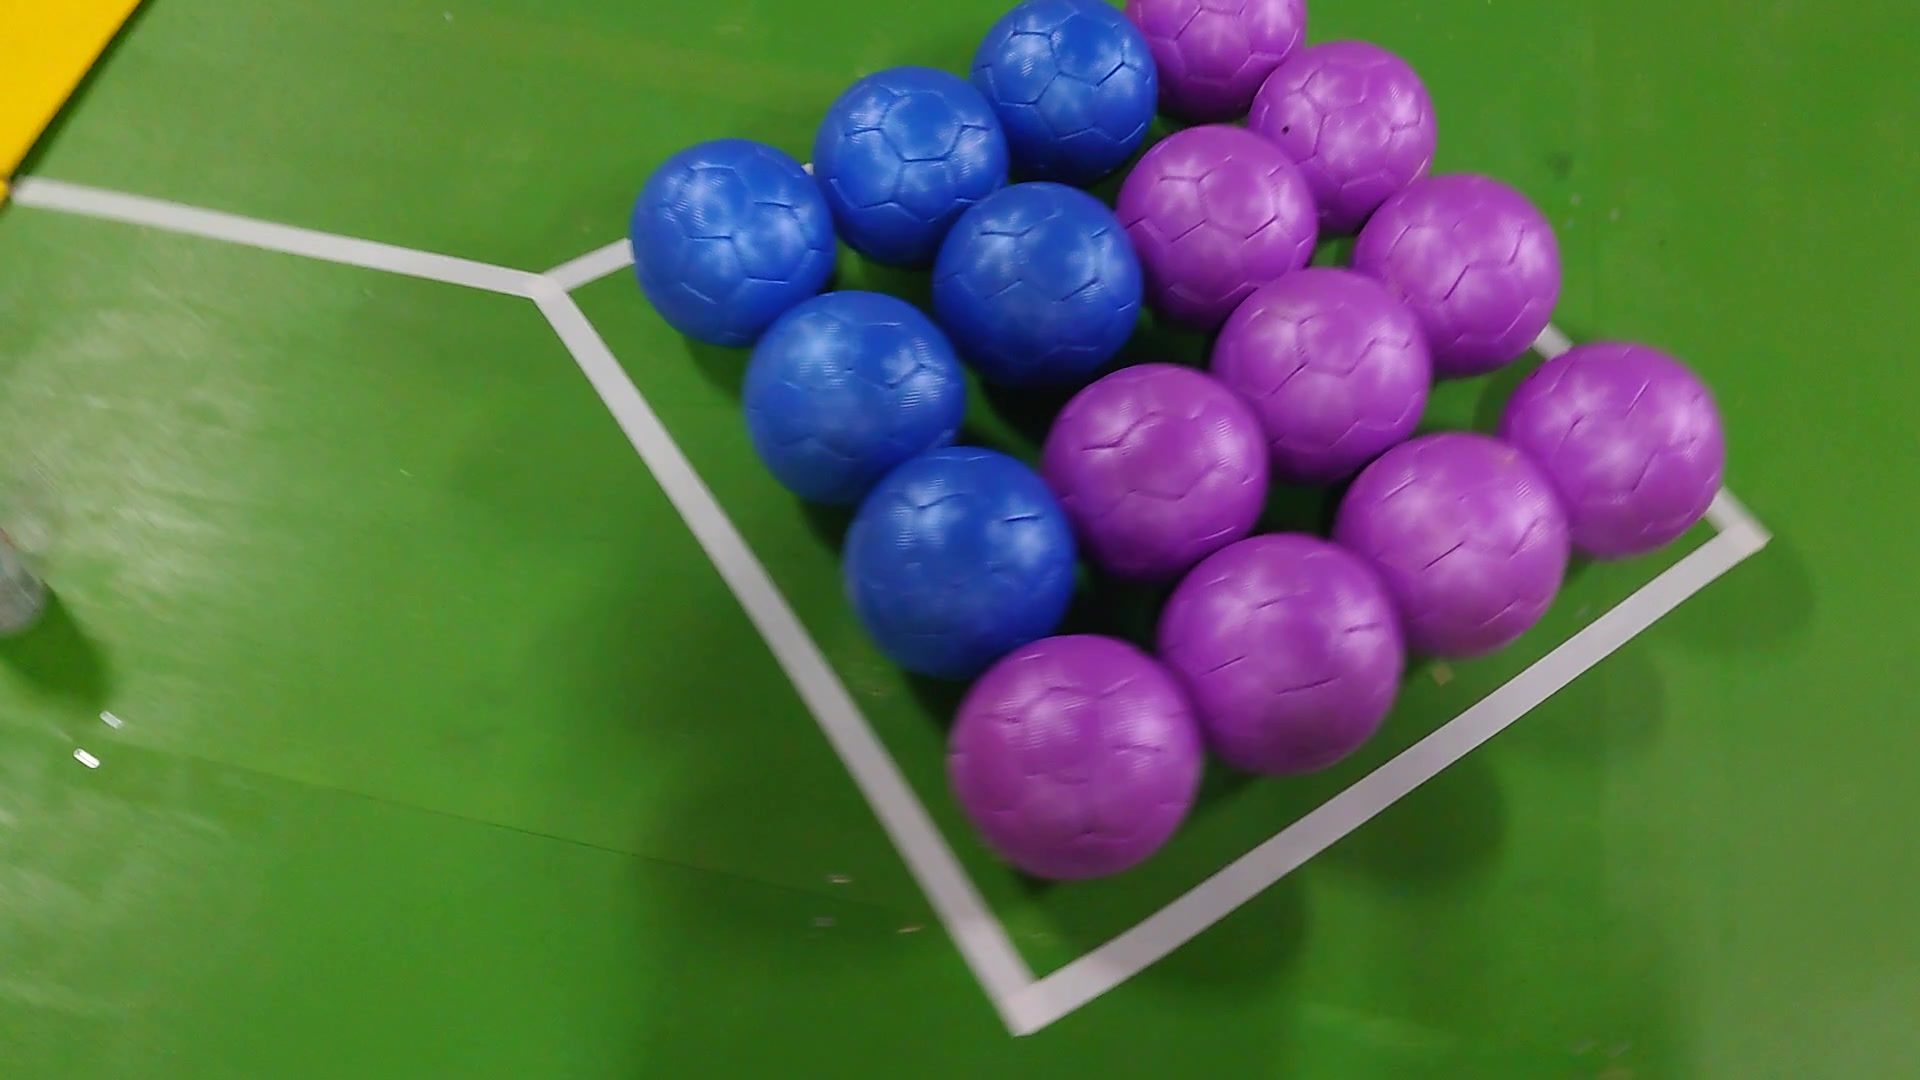blue: (843, 440, 1081, 666), (927, 179, 1150, 396), (738, 284, 960, 493), (624, 137, 843, 334), (810, 66, 1013, 248), (969, 3, 1163, 170)
purple: (951, 633, 1208, 882), (1150, 529, 1404, 777), (1332, 431, 1577, 659), (1495, 343, 1727, 562), (1201, 268, 1433, 477), (1035, 359, 1267, 564), (1349, 173, 1564, 363), (1110, 121, 1319, 301), (1241, 40, 1433, 215), (1124, 0, 1309, 98)
